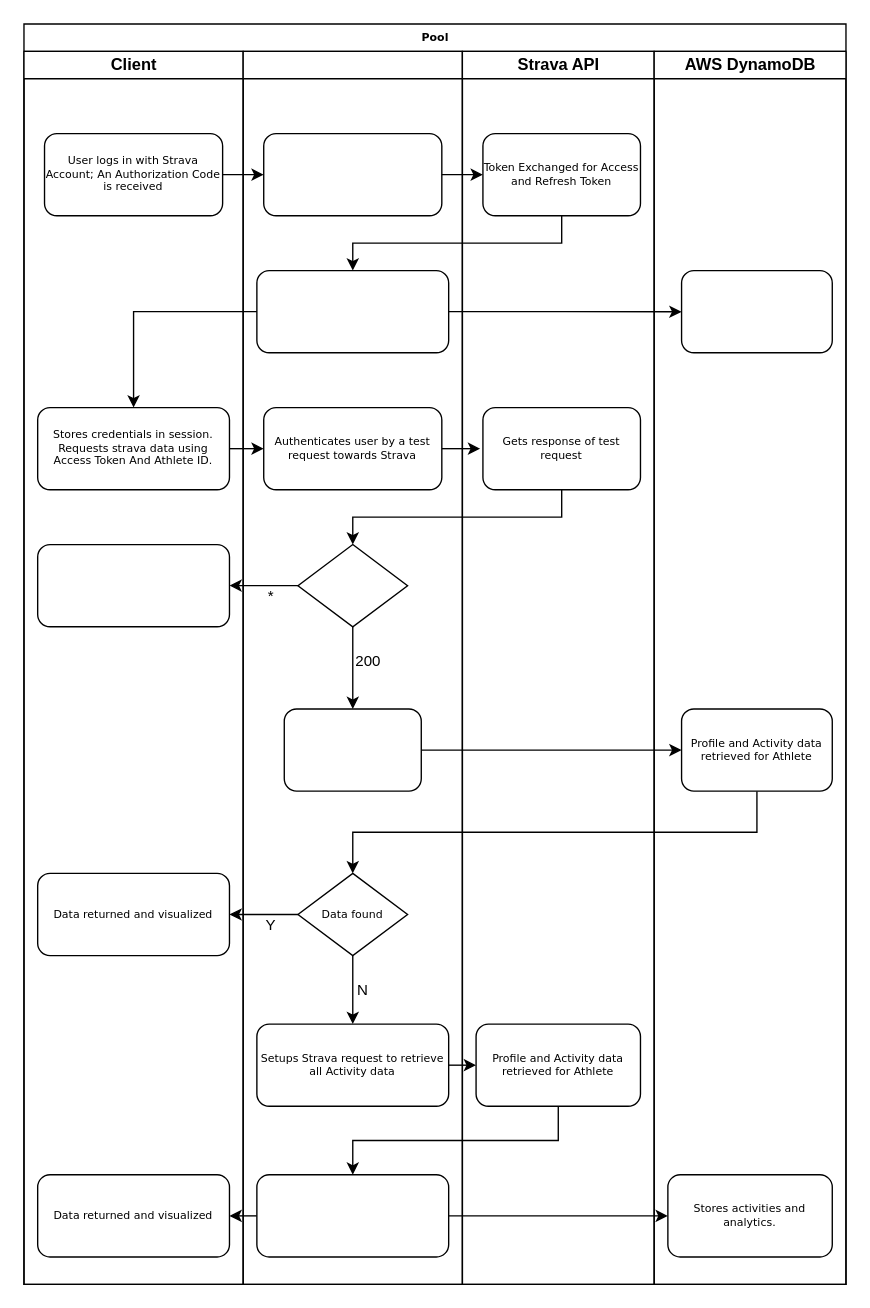
The diagram is 870 pixels wide and 1308 high, and some of its shapes have lost their labels. The box of each missing label's shape, as (x1, y1, x2, y2) in pixels:
Authenticated; Retrieves Data: (283, 708, 421, 791)
AWS Lambda: (242, 50, 462, 1284)
HTTP Status Response: (297, 543, 408, 627)
Profile and activity data received. Analyzes data.: (256, 1173, 449, 1257)
Receives a 401 (Unauthorized) Redirects to login page.: (36, 543, 229, 627)
Setups a Access Token Request: (262, 132, 442, 216)
Stores Profile and Tokens: (680, 269, 832, 353)
Successfully Retrieved Acces and Refresh token: (256, 269, 449, 353)
